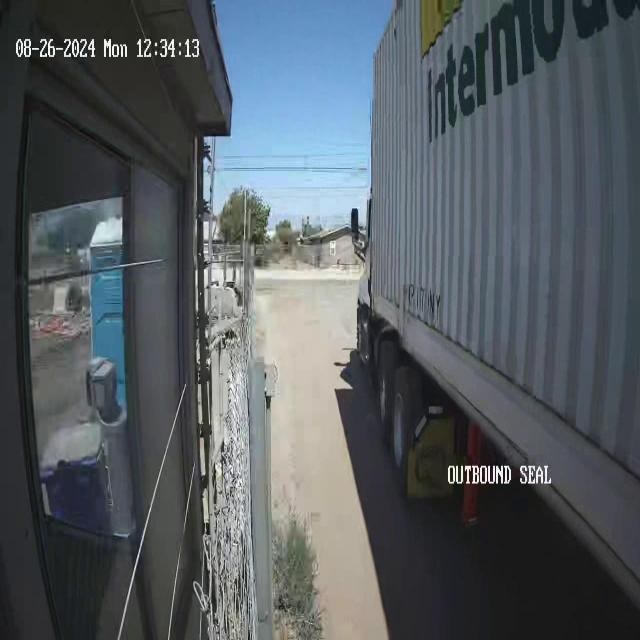TRUCK_CONTAINER: (349, 0, 640, 594)
